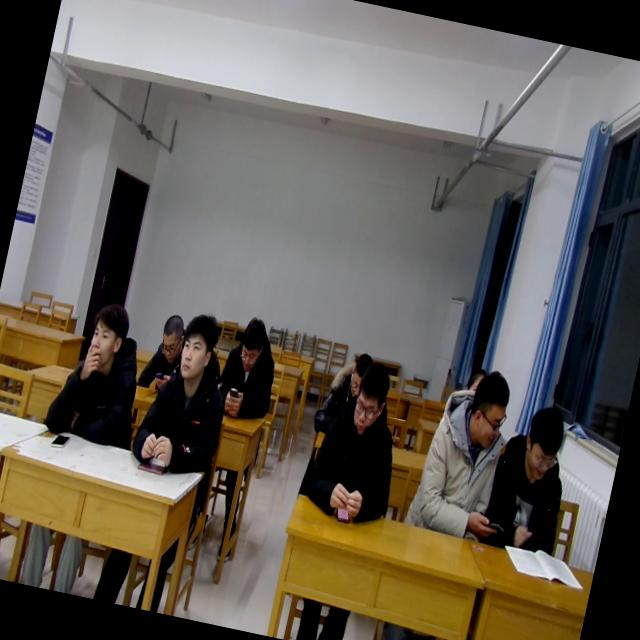bow: (211, 306, 290, 424), (312, 340, 377, 440)
down: (516, 396, 572, 493), (345, 358, 395, 440), (232, 310, 272, 378), (154, 307, 187, 361), (342, 348, 370, 400)
lookup: (80, 291, 134, 380), (169, 304, 225, 389)
sit: (298, 350, 420, 530), (403, 356, 519, 544), (127, 304, 245, 484), (40, 293, 154, 454), (478, 394, 584, 560), (134, 308, 192, 392)
